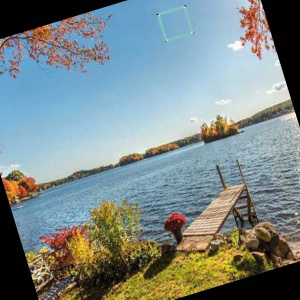square: (154, 3, 196, 44)
